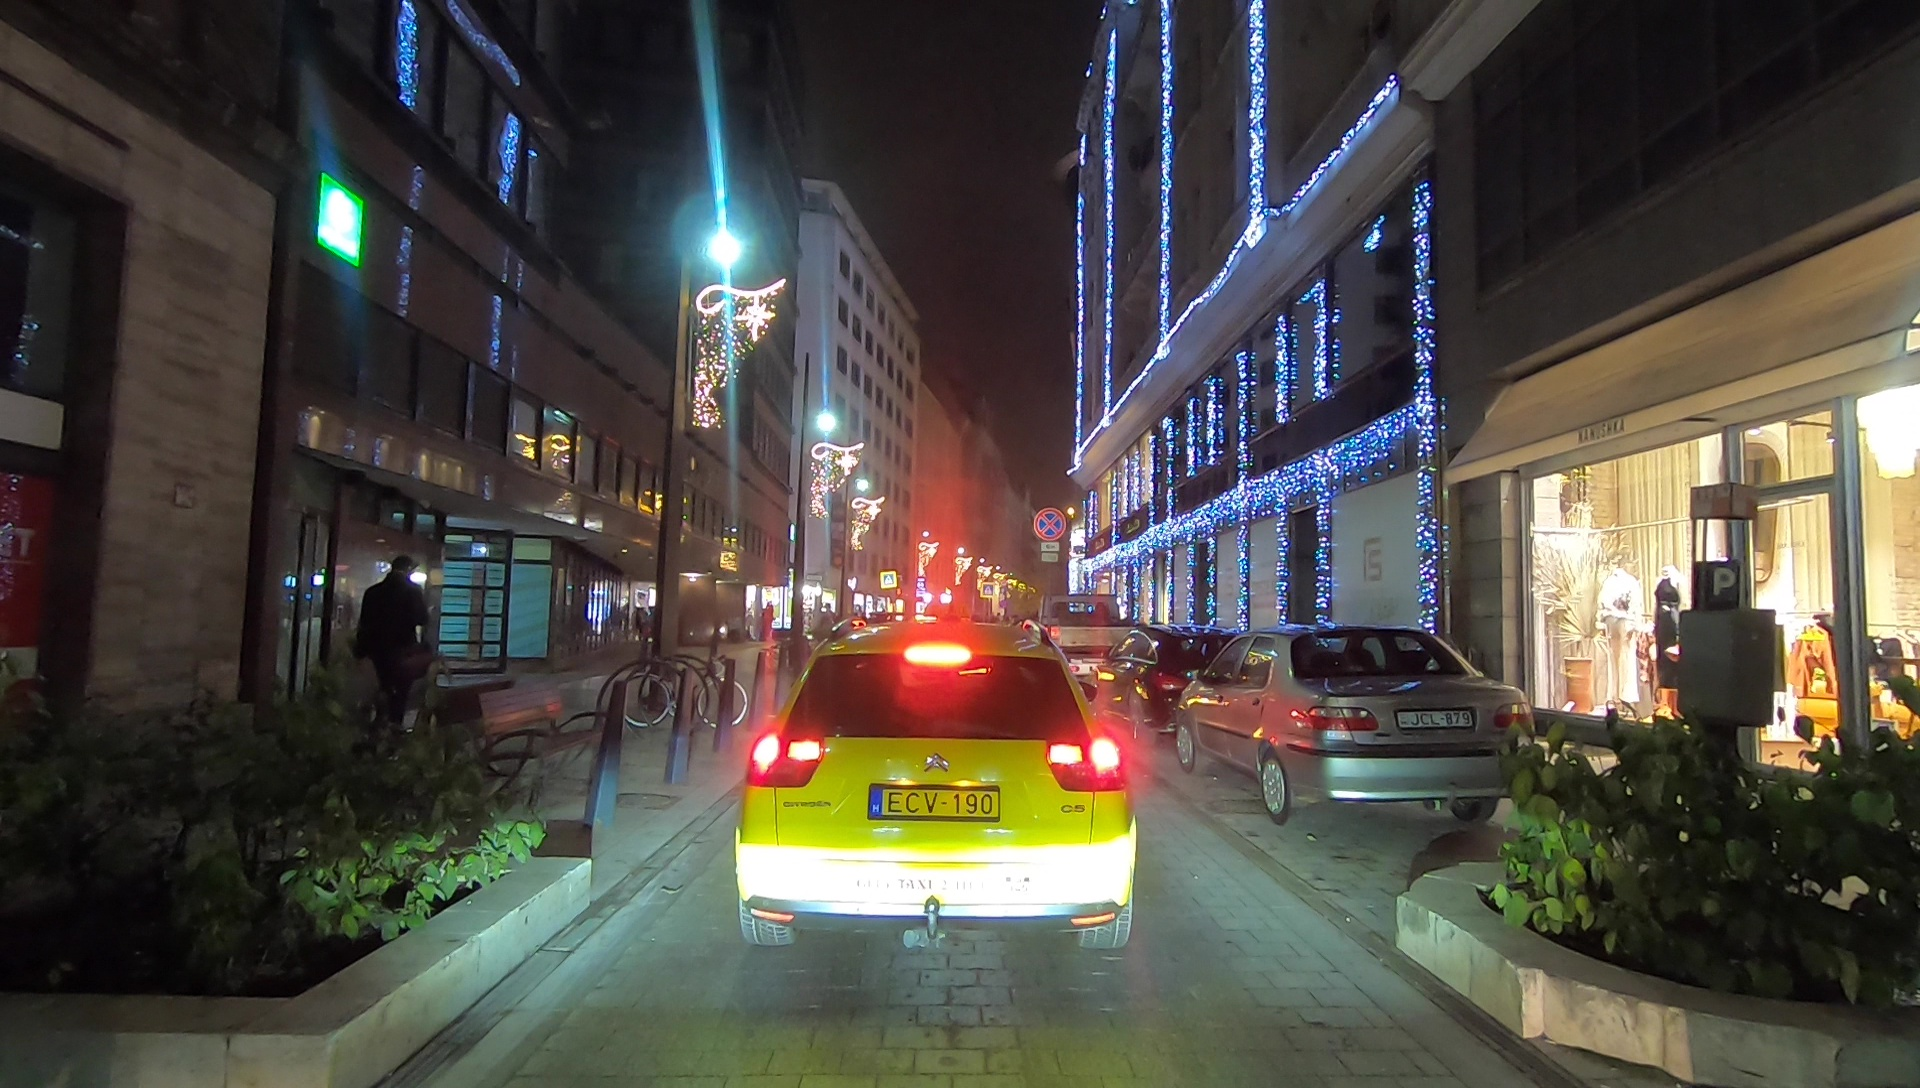person: (360, 556, 434, 761)
